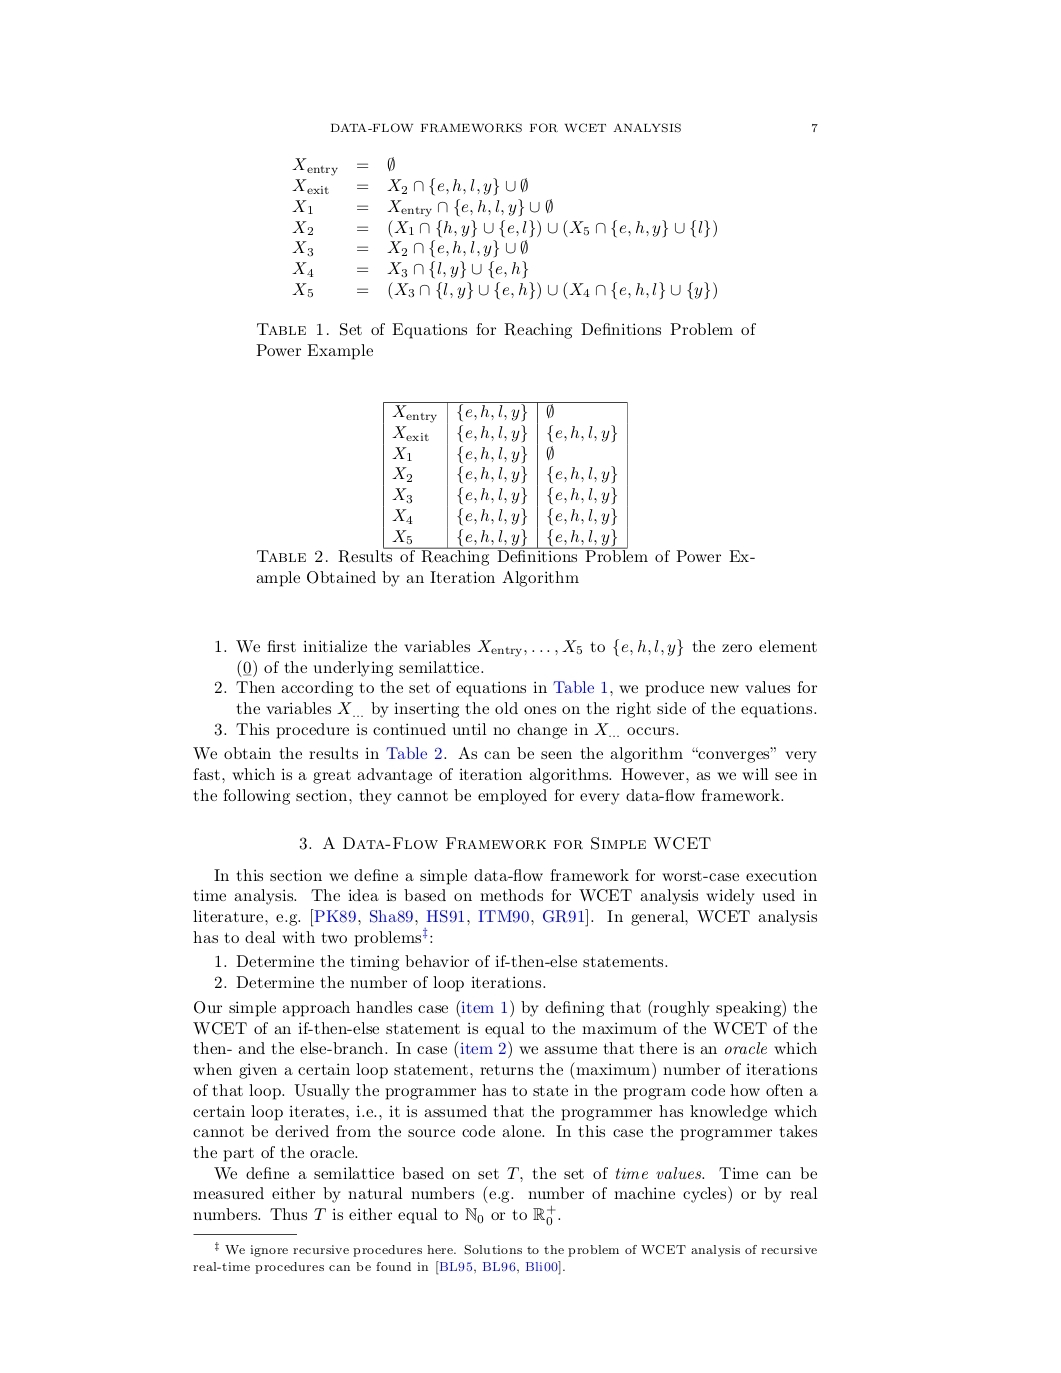Table: (383, 402, 627, 548)
formula: (292, 281, 716, 300), (292, 220, 716, 237), (292, 198, 552, 217), (292, 260, 527, 279), (292, 240, 527, 257), (292, 178, 527, 195), (292, 157, 395, 175)
